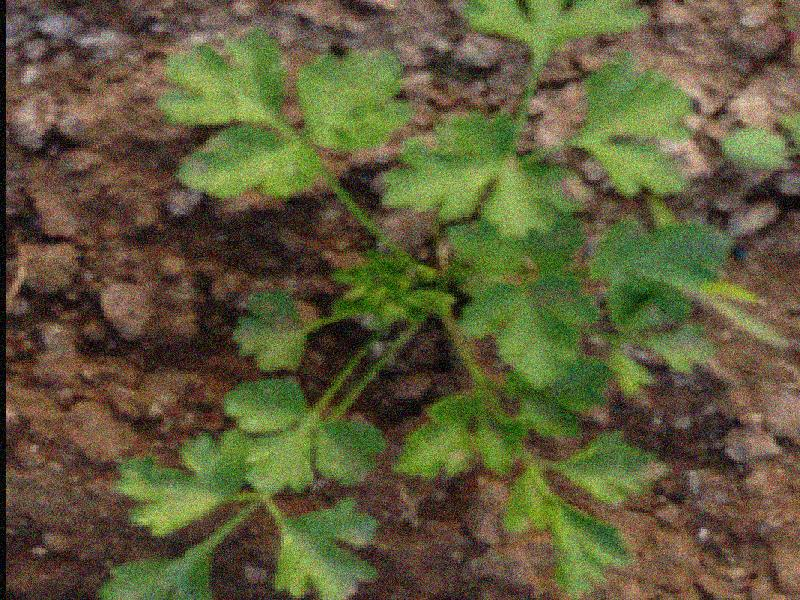radish: (100, 0, 733, 600)
